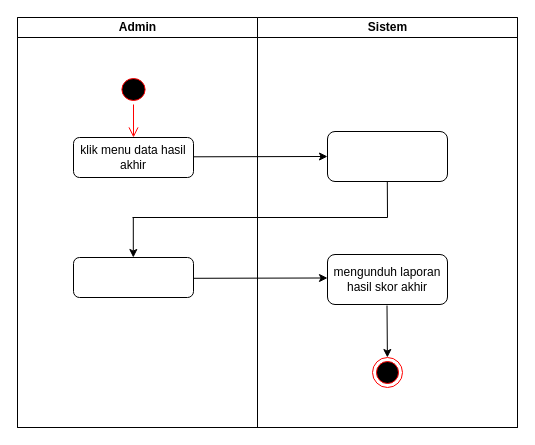
Some shapes in this 535 by 445 pixel diagram are drawn without their labels. The centre of each missing label's shape, as x and y in pixels:
"klik tombol download laporan" goes at (133,277).
"menampilkan hasil skor akhir dan perankingan" goes at (387,156).
